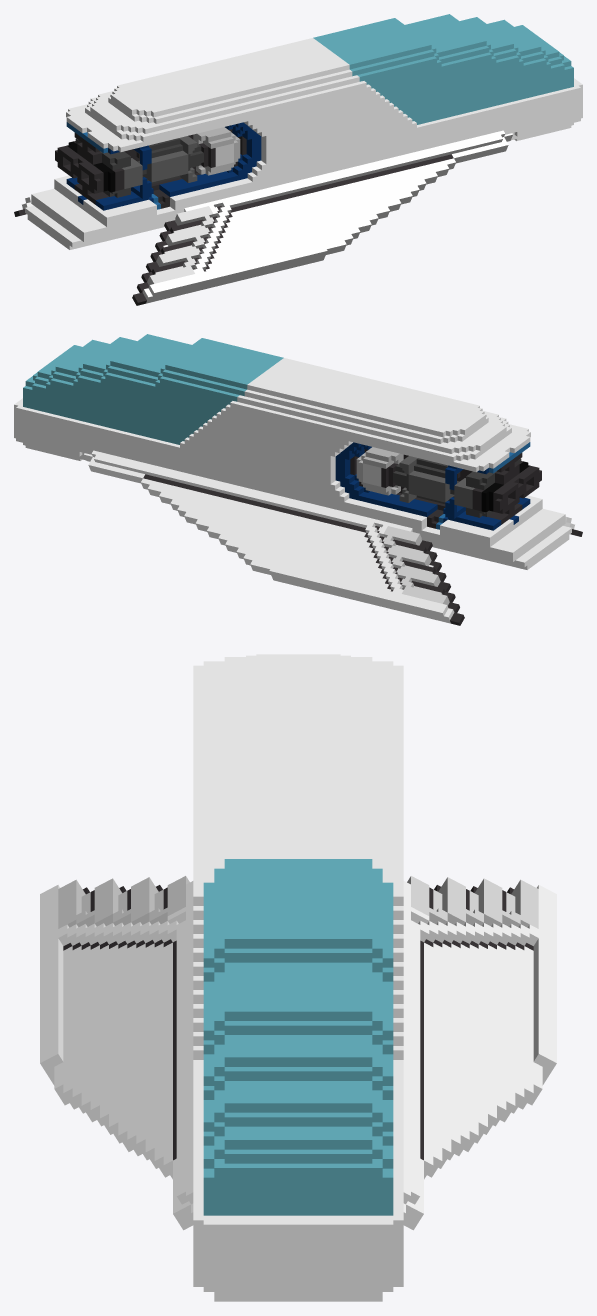
The model's file is ship-vox.glb.
The picture shows the model from 3 angles, top to bottom: view 1: azimuth 30°, elevation 25°; view 2: azimuth 150°, elevation 25°; view 3: azimuth 270°, elevation 25°; orthographic projection. The views are drawn at different scales.
Visible parts, largest first — view 1: ship.001, wing.001, ship; view 2: ship, wing, ship.001; view 3: ship, ship.001, wing, wing.001.
Part boxes in pixels (x1,y1,x2,y2): ship.001: [48, 27, 582, 249]; wing.001: [132, 130, 512, 305]; ship: [25, 14, 540, 234]; ship: [14, 347, 548, 569]; wing: [84, 450, 464, 625]; ship.001: [56, 334, 571, 554]; ship: [298, 654, 403, 1301]; ship.001: [193, 654, 298, 1301]; wing: [403, 876, 556, 1230]; wing.001: [40, 876, 193, 1230].
Size of the model in its own units: 112 by 31 by 49.11.
Materials: 3 (3 with a texture image).
